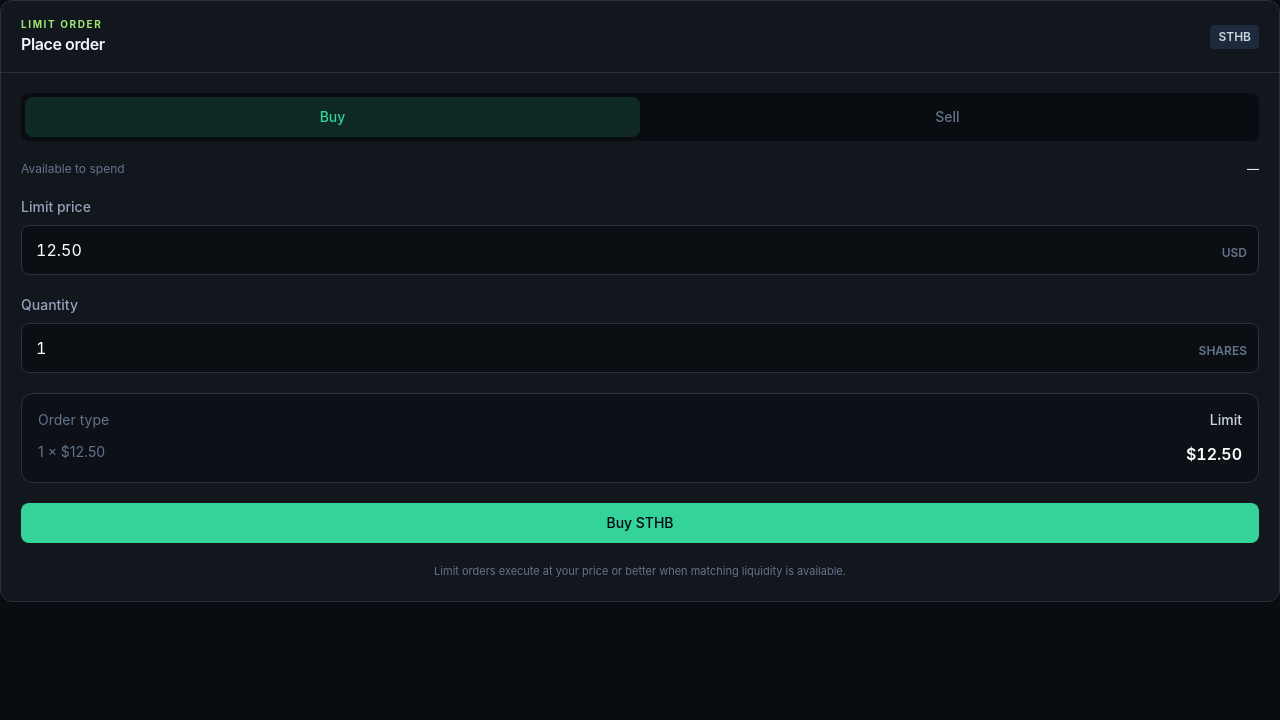
Test: OrderTicket › prevents submission with an invalid quantity
Clear the number field labelled "Quantity" at (640,348), box [21,323,1259,373]
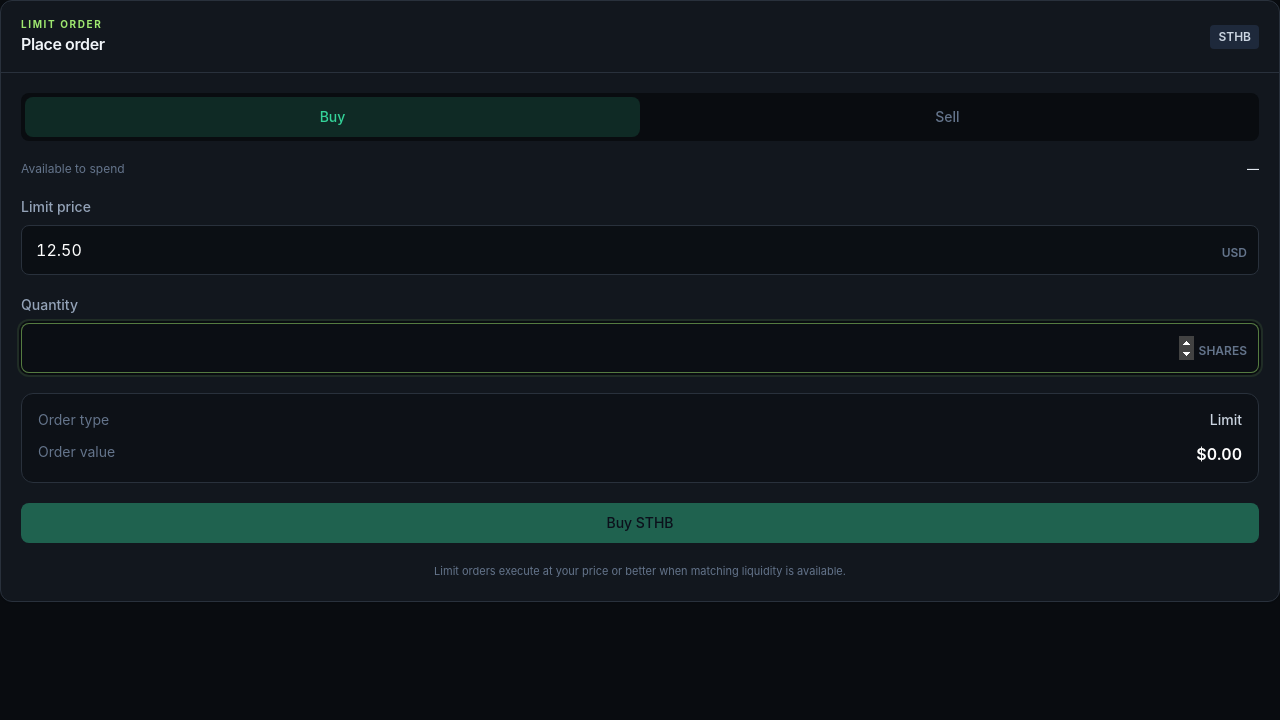
Expected: the button "Buy STHB" is disabled, [21,503,1259,543]
